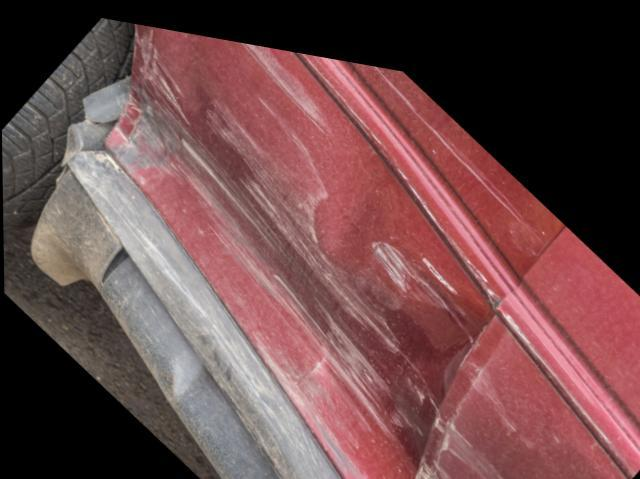dent: (107, 34, 441, 479), (353, 50, 542, 239)
scratch: (188, 32, 518, 331), (493, 277, 636, 459), (403, 401, 523, 479)
